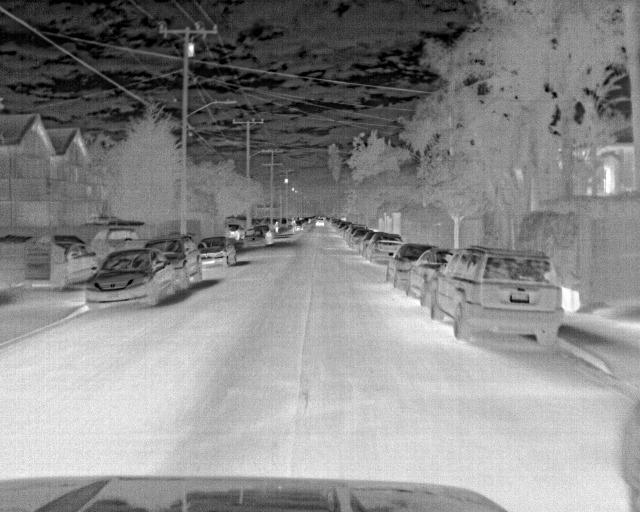car: (428, 245, 564, 349), (83, 248, 177, 310), (401, 248, 451, 306), (145, 236, 203, 285), (84, 227, 146, 263), (387, 241, 433, 287), (56, 240, 99, 285), (368, 230, 406, 263), (197, 237, 237, 266), (242, 227, 266, 250), (250, 224, 274, 245), (351, 227, 371, 250), (358, 230, 376, 253), (313, 216, 326, 228)
